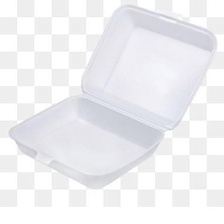foam_box: (1, 0, 224, 195)
